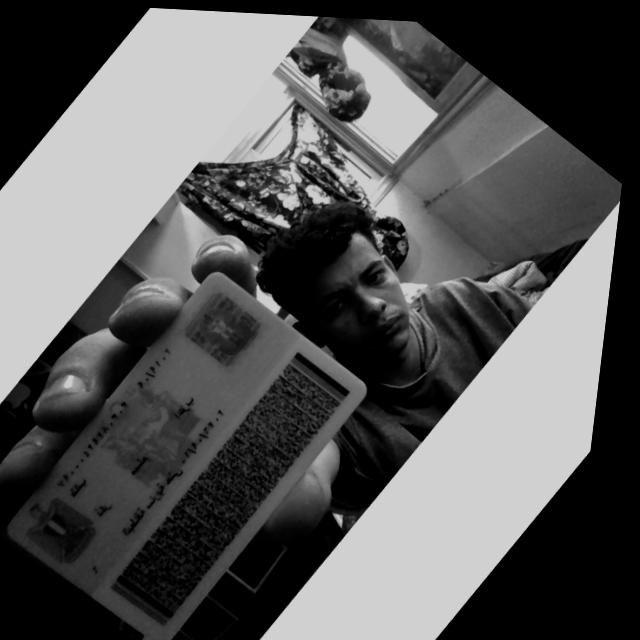id_card: (9, 272, 366, 640)
